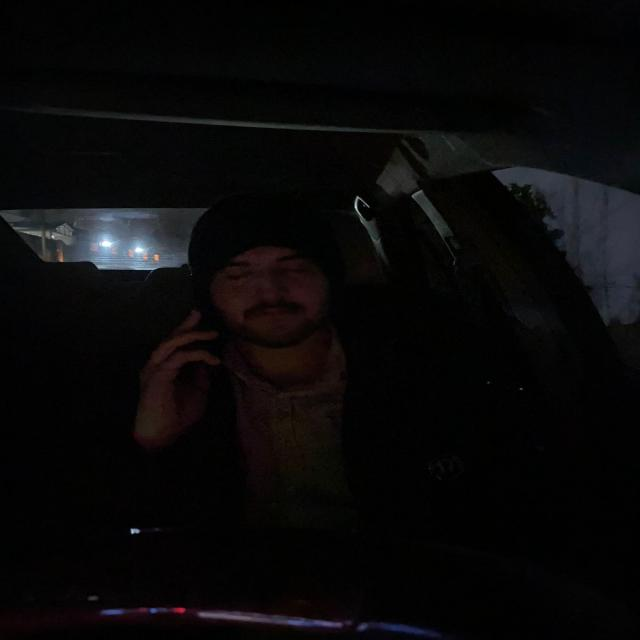person: (185, 184, 359, 349)
